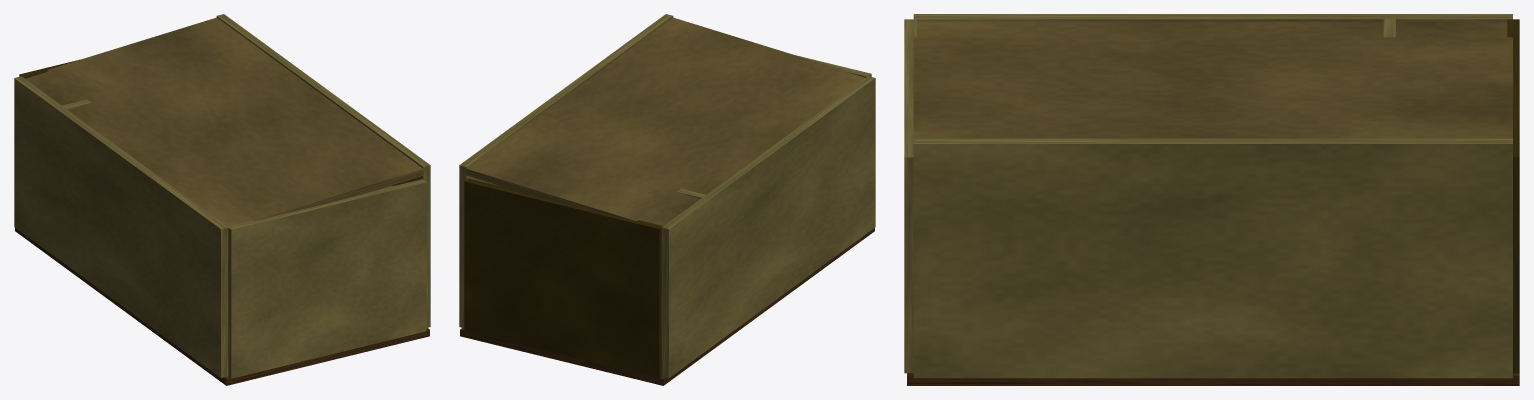
File: scene-3-3dcodeverse.glb
The picture shows the model from 3 angles, left to right: view 1: azimuth 30°, elevation 25°; view 2: azimuth 150°, elevation 25°; view 3: azimuth 270°, elevation 25°; orthographic projection. The views are drawn at different scales.
Parts seen in each view (by area): view 1: CeilingSlope, RoomShellLeft, RoomShellVestibuleEnd, RoomShellRight, Ground; view 2: CeilingSlope, RoomShellLeft, RoomShellAlcoveEnd, RoomShellRight, Ground; view 3: RoomShellRight, CeilingSlope, Ground, RoomShellLeft, RoomShellVestibuleEnd, RoomShellAlcoveEnd.
Boxes of the visible parts, x1,y1,x2,y2 form: CeilingSlope: [25, 17, 426, 235]; RoomShellLeft: [14, 76, 228, 377]; RoomShellVestibuleEnd: [227, 179, 426, 378]; RoomShellRight: [216, 14, 430, 327]; Ground: [15, 228, 429, 385]; CeilingSlope: [463, 17, 865, 235]; RoomShellLeft: [661, 76, 875, 377]; RoomShellAlcoveEnd: [464, 178, 663, 377]; RoomShellRight: [459, 14, 673, 327]; Ground: [460, 228, 874, 385]; RoomShellRight: [913, 138, 1512, 378]; CeilingSlope: [913, 21, 1512, 138]; Ground: [907, 373, 1519, 385]; RoomShellLeft: [913, 14, 1512, 21]; RoomShellVestibuleEnd: [904, 19, 916, 373]; RoomShellAlcoveEnd: [1507, 19, 1519, 373].
Bounding box in the file's own units: 5.16 × 3.96 × 9.04.
Materials: 58 (29 with a texture image).
